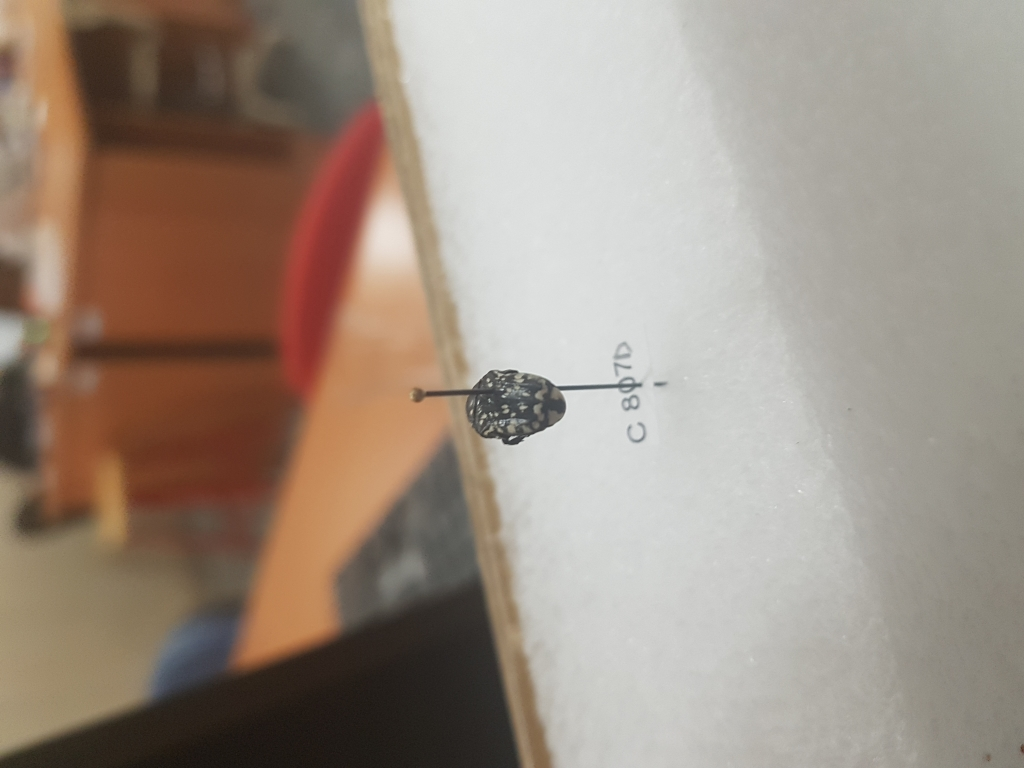Oxythyrea_albopicta: (451, 365, 569, 453)
